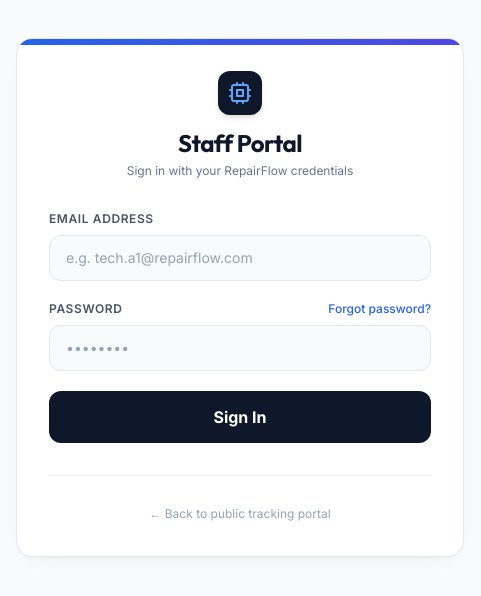
it: Login Form Validation › shows validation errors on empty submission
Click the button "Sign In" at (240, 416), box [49,390,431,442]
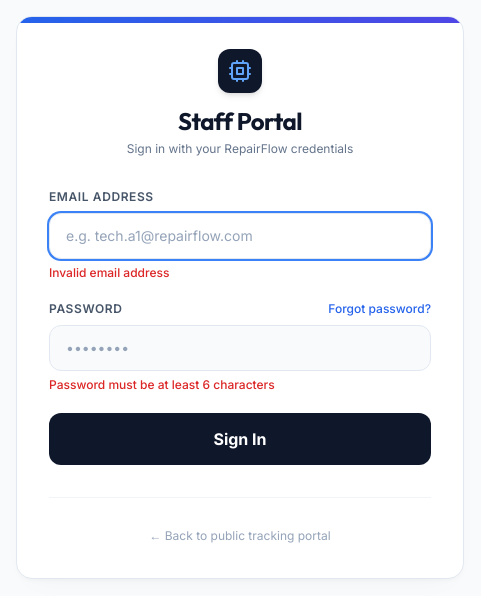
Now the text "Invalid email address" is shown, box [49,264,169,280]
Now the text "Password must be at least 6 characters" is shown, box [49,376,275,392]
